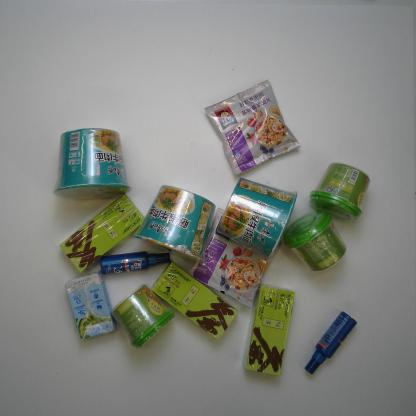Instant Drink: (185, 203, 288, 311), (203, 78, 303, 180), (58, 187, 152, 275), (150, 260, 240, 342), (241, 280, 298, 380), (110, 284, 180, 354), (280, 207, 348, 272), (308, 161, 373, 224)
Instant Noodles: (214, 176, 301, 262), (131, 185, 221, 268), (50, 126, 134, 202)
Milk: (63, 271, 117, 344)
Personal Hygiene: (303, 310, 359, 378), (98, 246, 176, 278)
